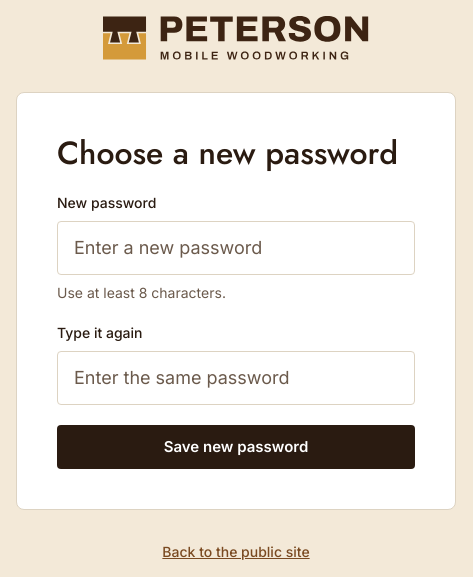
Test: ResetPasswordPage › switches to the expired state when the reset session ran out while typing
Type "new-password-123" into the password field labelled "New password" at (236, 248), box [57,221,415,275]
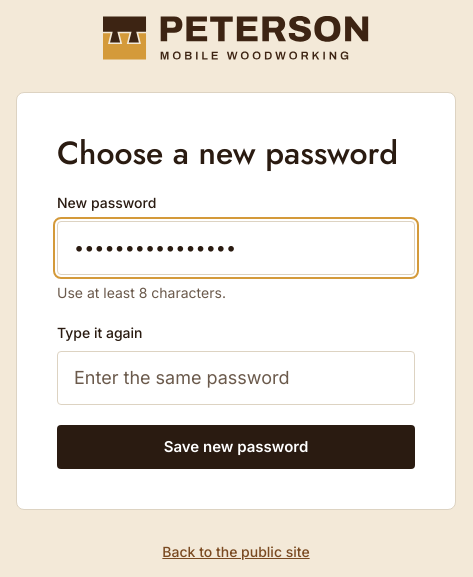
Type "new-password-123" into the password field labelled "Type it again" at (236, 378), box [57,351,415,405]
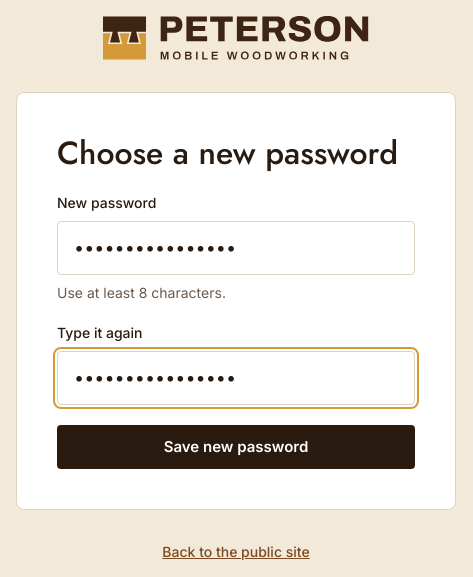
Click the button "Save new password" at (236, 447), box [57,425,415,469]
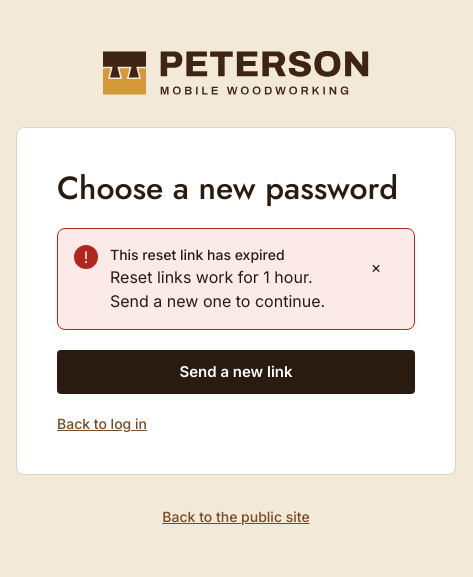
Expected: the text "This reset link has expired" is shown, [110,246,285,263]
